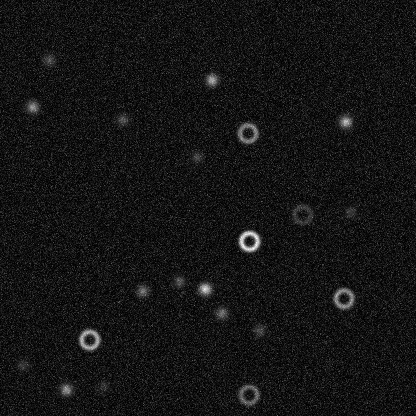Ring: (331, 286, 355, 310), (235, 120, 259, 144), (236, 382, 260, 406), (290, 202, 314, 226), (77, 327, 101, 351), (237, 228, 261, 252)
Spot: (114, 111, 130, 127), (40, 51, 56, 67), (188, 149, 204, 165), (337, 113, 353, 129), (203, 71, 219, 87), (342, 203, 358, 219), (196, 280, 212, 296), (58, 381, 74, 397), (171, 273, 187, 289), (251, 322, 267, 338), (24, 98, 40, 114), (95, 378, 111, 394), (14, 356, 30, 372), (134, 282, 150, 298), (213, 305, 229, 321)
